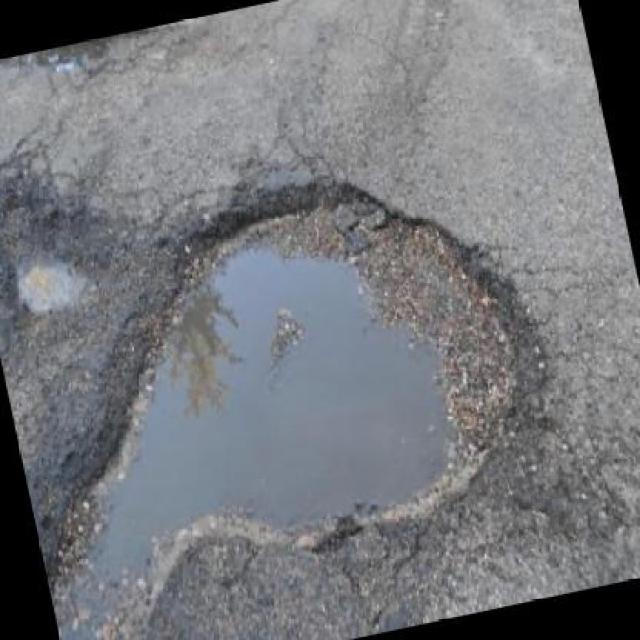pothole: (47, 127, 581, 596), (1, 163, 117, 334), (22, 39, 118, 83)
